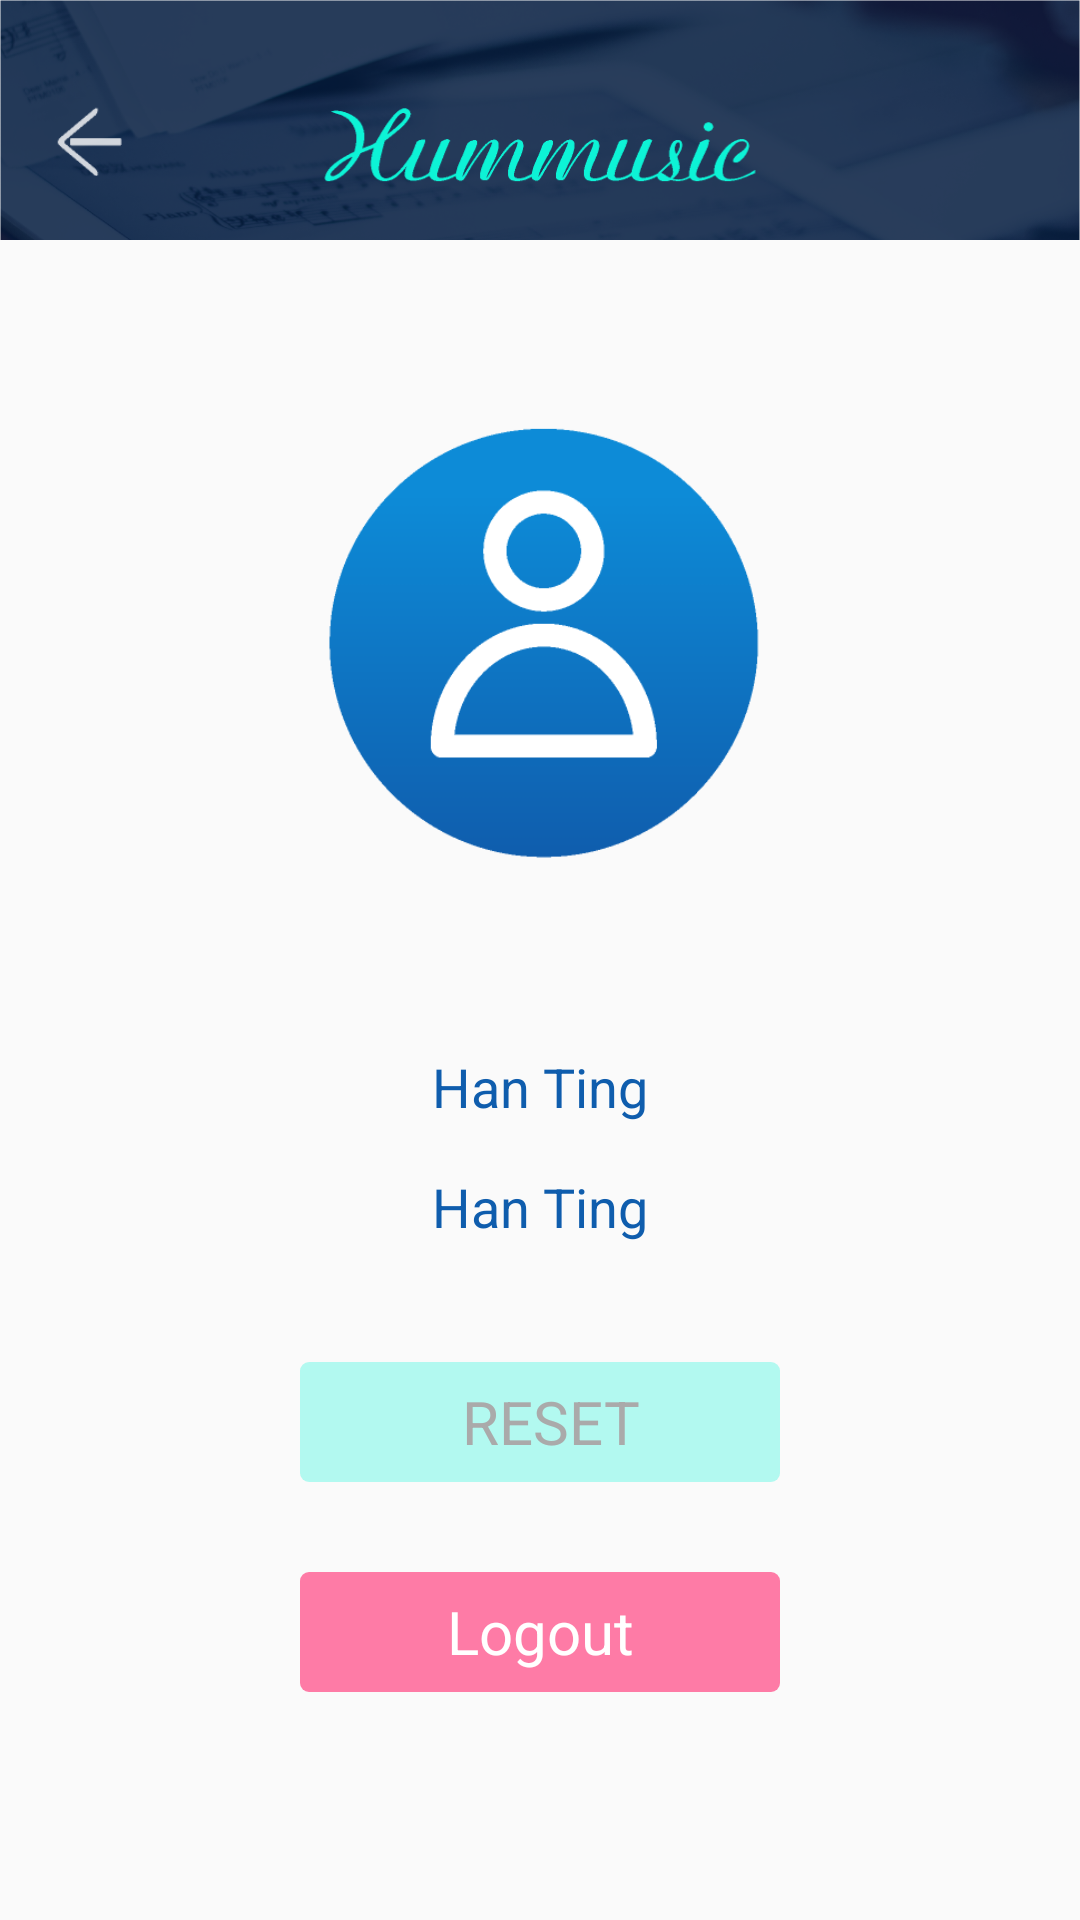

Where icons sit on this 1080x1920 app screen, as bbox(x1, y1, x2, y2):
back: bbox(57, 107, 122, 176)
